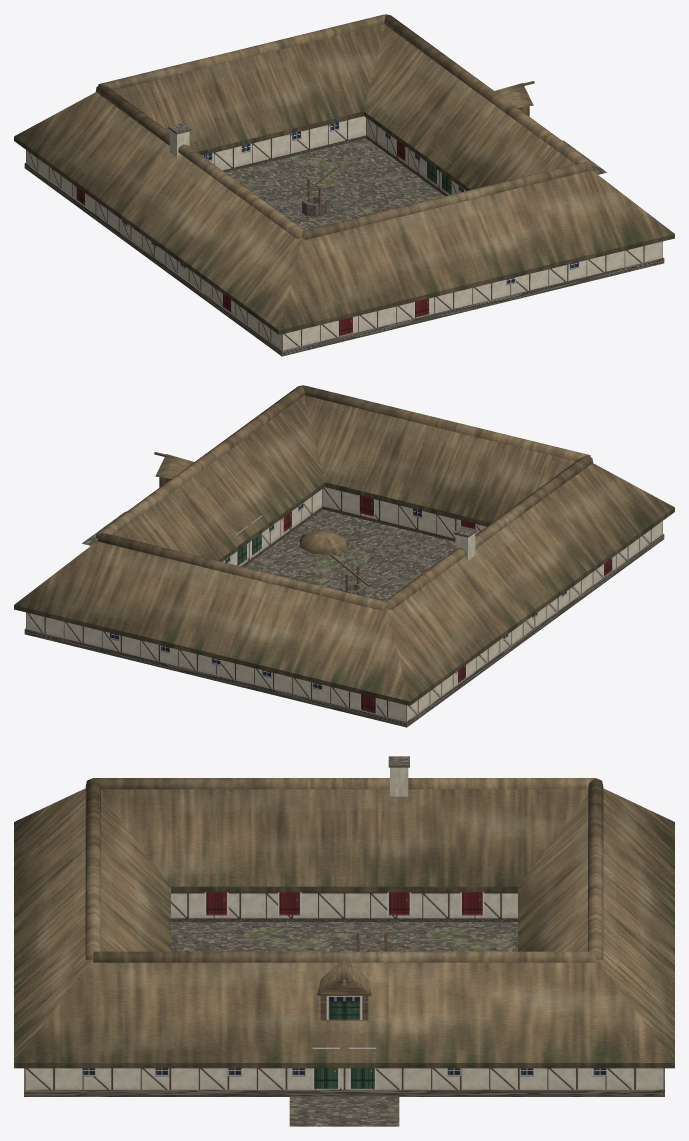
File: SM_Farm.fbx
3 views of the same model, one above another, from view 1: azimuth 30°, elevation 25°; view 2: azimuth 150°, elevation 25°; view 3: azimuth 270°, elevation 25° (orthographic). The views are drawn at different scales.
Visible parts, largest first — view 1: SM_Farm; view 2: SM_Farm; view 3: SM_Farm.
Boxes of the visible parts, <box> form: SM_Farm: <box>14,14,674,356</box>; SM_Farm: <box>14,385,674,727</box>; SM_Farm: <box>14,756,674,1126</box>.
Size of the model in its own units: 3460 by 3620 by 804.
Materials: 1 (1 with a texture image).
